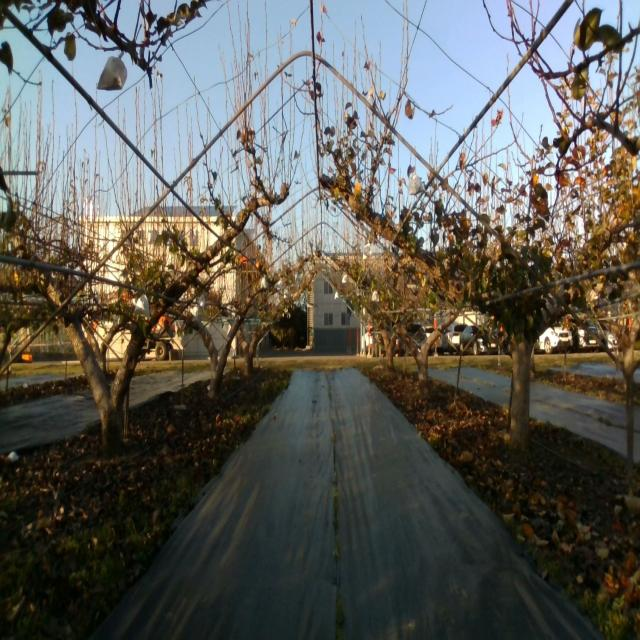pearbags: (96, 56, 128, 91), (134, 293, 150, 321), (408, 174, 426, 194), (362, 242, 372, 261)
